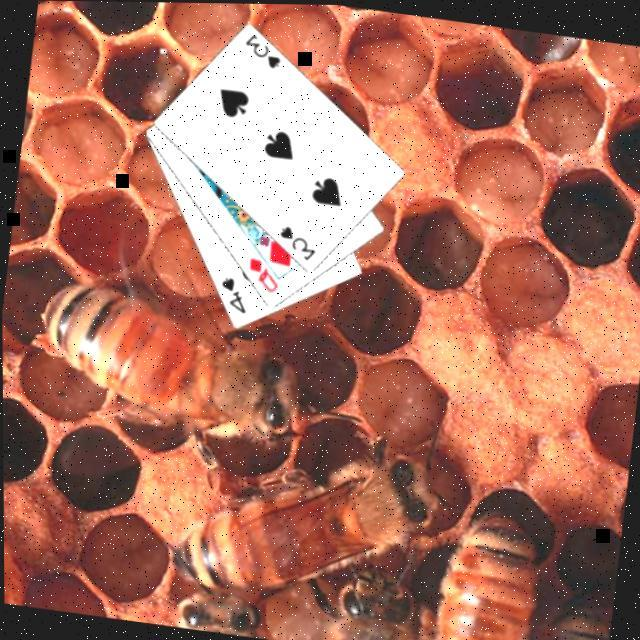3S: (237, 27, 285, 71), (271, 218, 318, 262)
4S: (211, 271, 250, 315)
QD: (240, 252, 282, 294)
